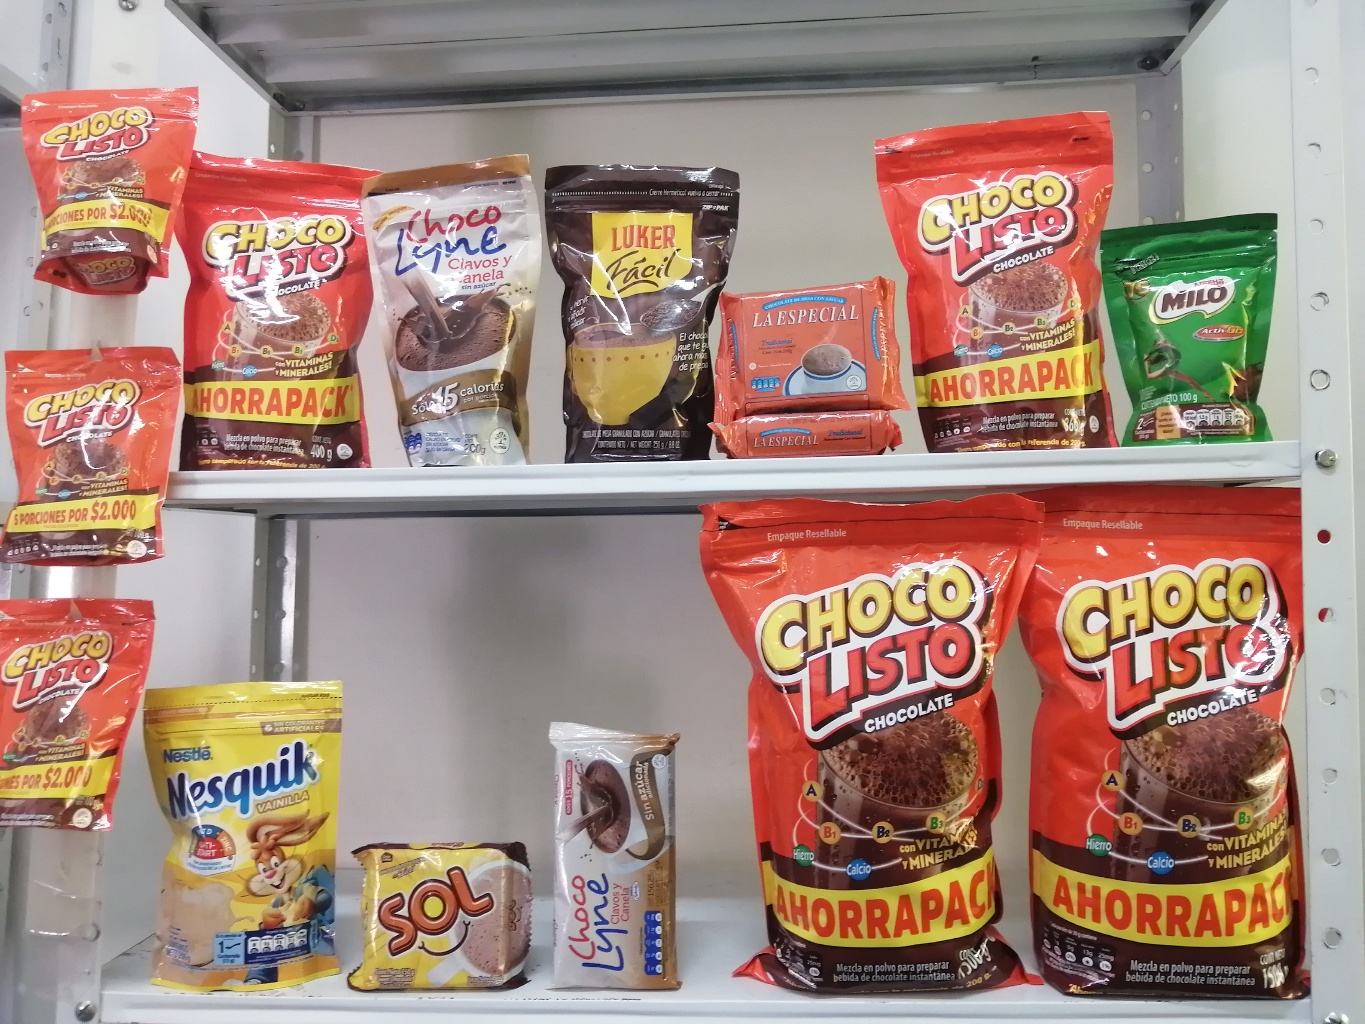COL0170103DYP1,500: (1015, 490, 1317, 997)
COL0170103DYP10000: (15, 71, 218, 290)
COL0170103DYP36000: (875, 110, 1124, 455)
COL0170103DYP40000: (187, 139, 375, 460)
COL0170203DYP10000: (1103, 212, 1293, 455)
COL0170306DYP20000: (152, 668, 349, 980)
